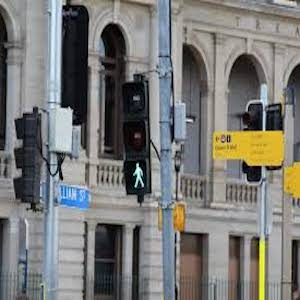green: (126, 163, 149, 191)
